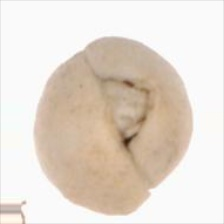L3: (92, 72, 155, 159)
L4: (34, 37, 194, 216)
